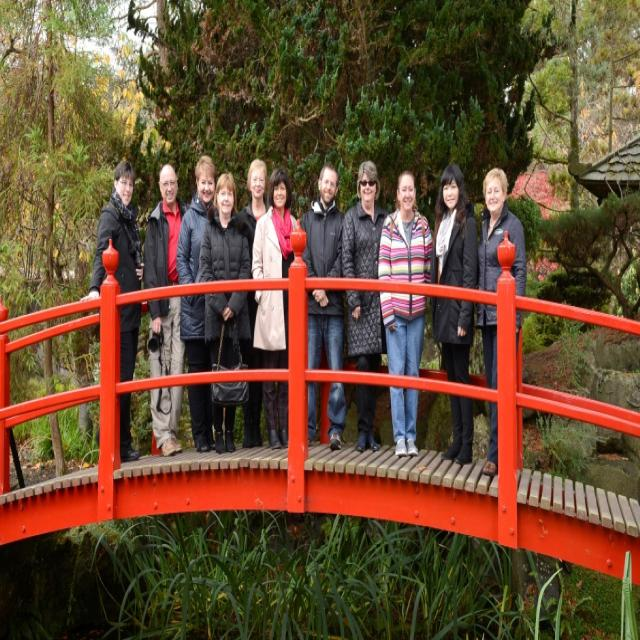body: (78, 154, 146, 464), (472, 163, 528, 478), (377, 166, 435, 457), (428, 158, 482, 466), (197, 168, 255, 454), (340, 158, 388, 452), (300, 158, 348, 452), (175, 152, 221, 456), (251, 166, 298, 449), (143, 160, 187, 459), (237, 158, 272, 450)
